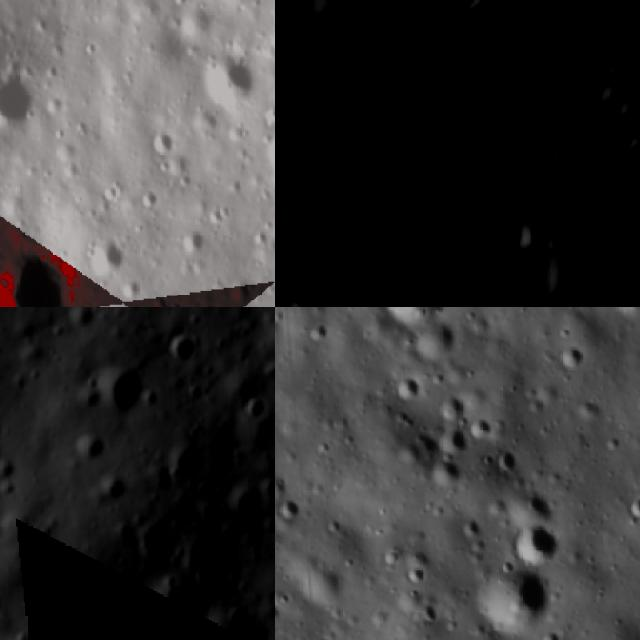crater: (336, 60, 439, 170), (472, 558, 554, 634), (143, 573, 222, 640), (0, 241, 75, 307), (90, 354, 162, 419), (174, 522, 242, 583), (407, 314, 472, 368), (202, 52, 262, 108), (508, 514, 568, 564), (0, 63, 41, 130), (475, 0, 551, 34), (64, 429, 116, 475), (597, 82, 640, 129), (433, 413, 473, 462), (89, 474, 137, 514), (275, 0, 331, 34), (530, 22, 580, 60), (163, 328, 205, 373), (91, 234, 130, 280), (434, 383, 478, 420), (315, 90, 351, 134), (373, 307, 458, 325), (339, 288, 418, 307), (232, 389, 274, 424), (422, 0, 487, 22), (503, 216, 537, 256), (617, 248, 640, 307), (275, 492, 312, 527), (146, 122, 180, 160), (393, 368, 428, 404), (444, 251, 474, 291), (558, 338, 592, 372), (295, 115, 328, 149), (180, 222, 207, 257), (625, 493, 640, 522)
